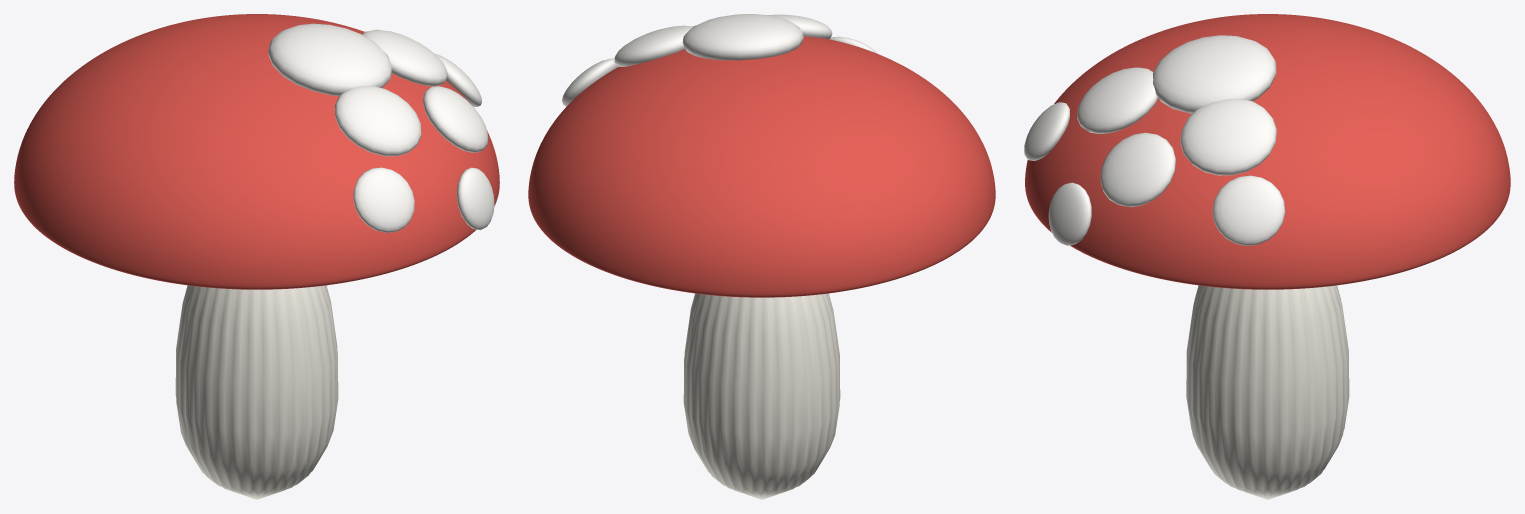
The model's file is mushroom.glb.
The picture shows the model from 3 angles, left to right: view 1: azimuth 30°, elevation 25°; view 2: azimuth 150°, elevation 25°; view 3: azimuth 270°, elevation 25°; orthographic projection. The views are drawn at different scales.
Parts seen in each view (by area): view 1: Cap, Stem, Spot_0, Spot_2, Spot_5, Spot_3, Spot_1, Spot_6, Spot_4; view 2: Cap, Stem, Spot_0, Spot_1, Spot_4, Spot_2; view 3: Cap, Stem, Spot_0, Spot_1, Spot_3, Spot_4, Spot_2, Spot_6, Spot_5.
Part boxes in pixels (box(x1,y1,x2,y2)): Cap: box(14, 14, 499, 289); Stem: box(175, 285, 338, 499); Spot_0: box(268, 23, 392, 95); Spot_2: box(335, 86, 421, 156); Spot_5: box(353, 167, 414, 232); Spot_3: box(423, 86, 488, 152); Spot_1: box(362, 29, 447, 86); Spot_6: box(456, 167, 494, 230); Spot_4: box(435, 54, 481, 106); Cap: box(528, 36, 995, 297); Stem: box(683, 293, 840, 499); Spot_0: box(682, 14, 803, 60); Spot_1: box(614, 25, 692, 66); Spot_4: box(562, 58, 618, 106); Spot_2: box(768, 14, 832, 38); Cap: box(1025, 14, 1510, 289); Stem: box(1186, 285, 1349, 499); Spot_0: box(1153, 35, 1276, 113); Spot_1: box(1180, 98, 1276, 175); Spot_3: box(1100, 132, 1175, 207); Spot_4: box(1212, 175, 1285, 245); Spot_2: box(1077, 67, 1158, 133); Spot_6: box(1048, 182, 1091, 245); Spot_5: box(1024, 102, 1069, 160).
Size of the model in its own units: 1.99 by 2.13 by 1.99.
